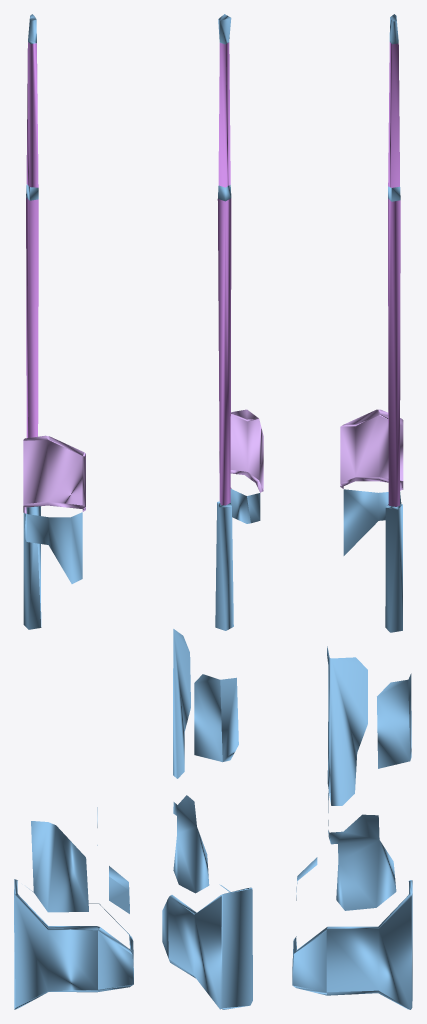
Rendered from antenna_c_lod1.glb.
3 views of the same model, side by side, from view 1: azimuth 90°, elevation 25°; view 2: azimuth 210°, elevation 25°; view 3: azimuth 270°, elevation 25° (orthographic).
Size of the model in its own units: 3.1 by 45.14 by 4.96.
